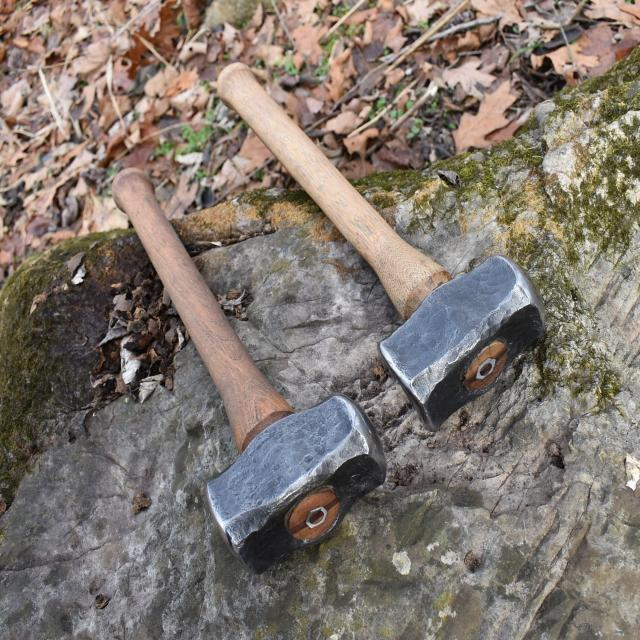hammer: (210, 52, 550, 438), (102, 151, 391, 588)
